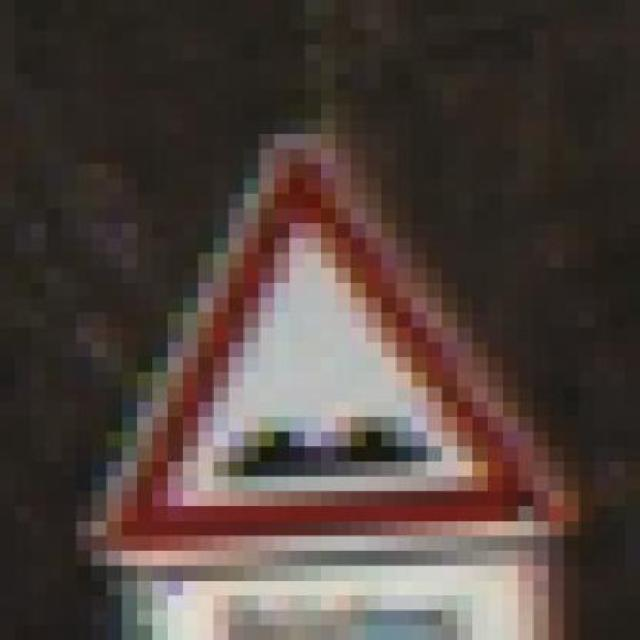Uneven Road: (76, 119, 579, 581)
